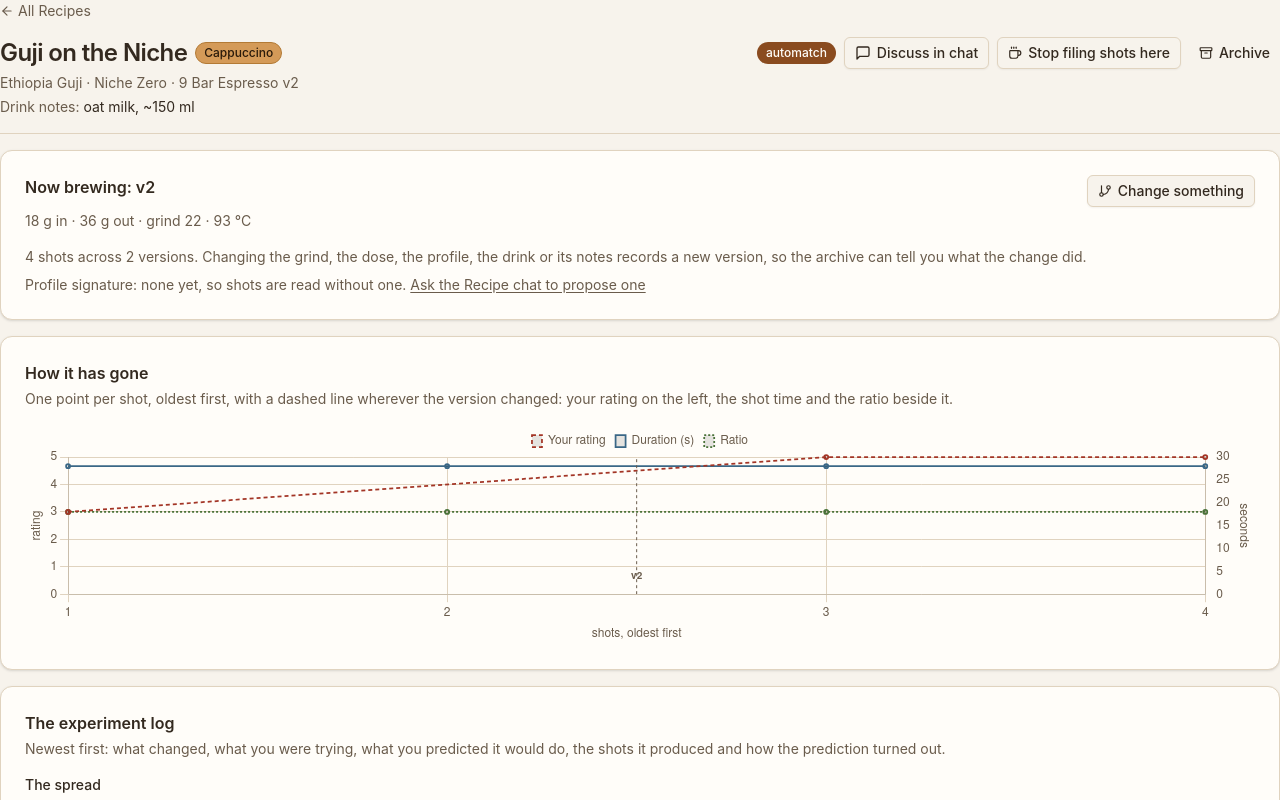
Scenario: Change something: the drink › starts Drink and Drink notes filled with the current version's
Click the button "Change something": (1171, 191) [1087,175,1255,207]
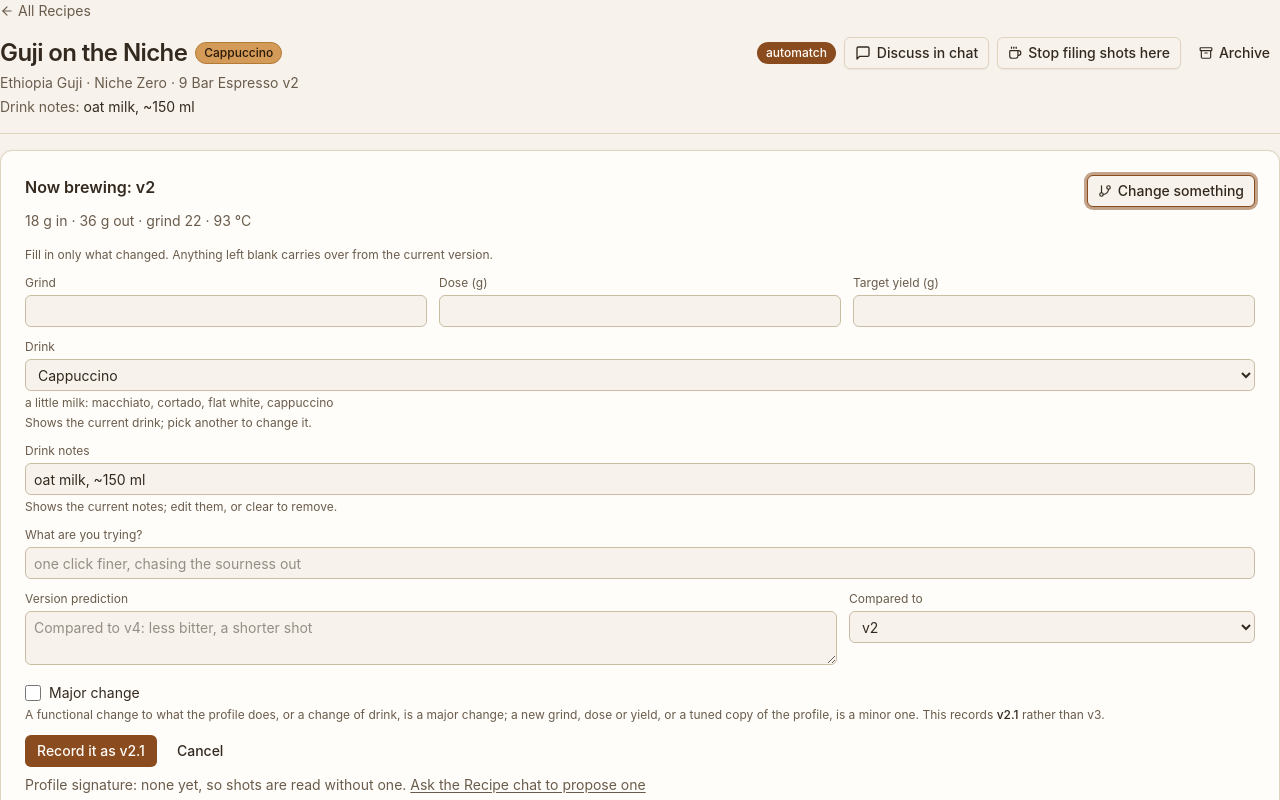
expect the form with test id "new-version-form" is shown: met
expect the dropdown labelled "Drink" shows "Cappuccino": met, box [25,359,1255,391]
expect the field labelled "Drink notes" holds "oat milk, ~150 ml": met, box [25,463,1255,495]
